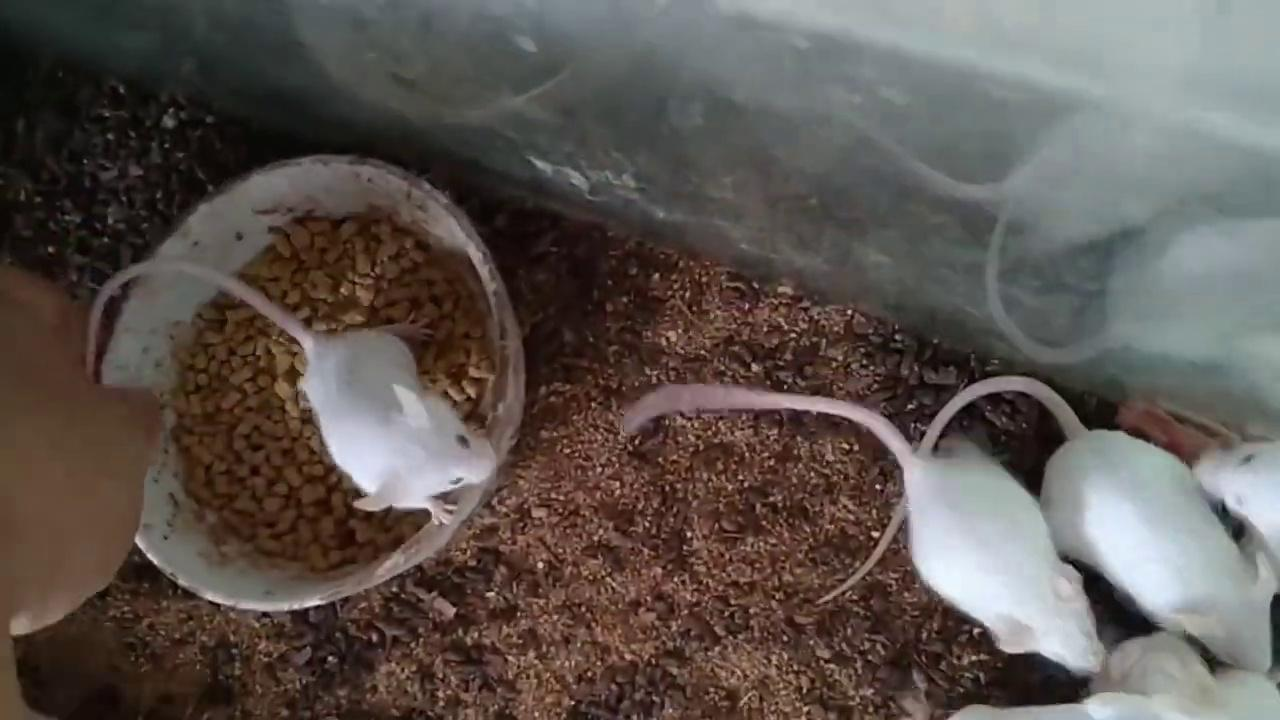rat: (623, 383, 1105, 675), (816, 376, 1274, 670), (83, 258, 498, 527), (1197, 440, 1280, 559)
